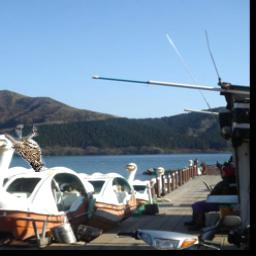Sparrow: (4, 125, 45, 173)
